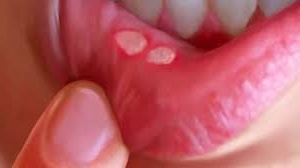Ulcer: (108, 29, 181, 67)
